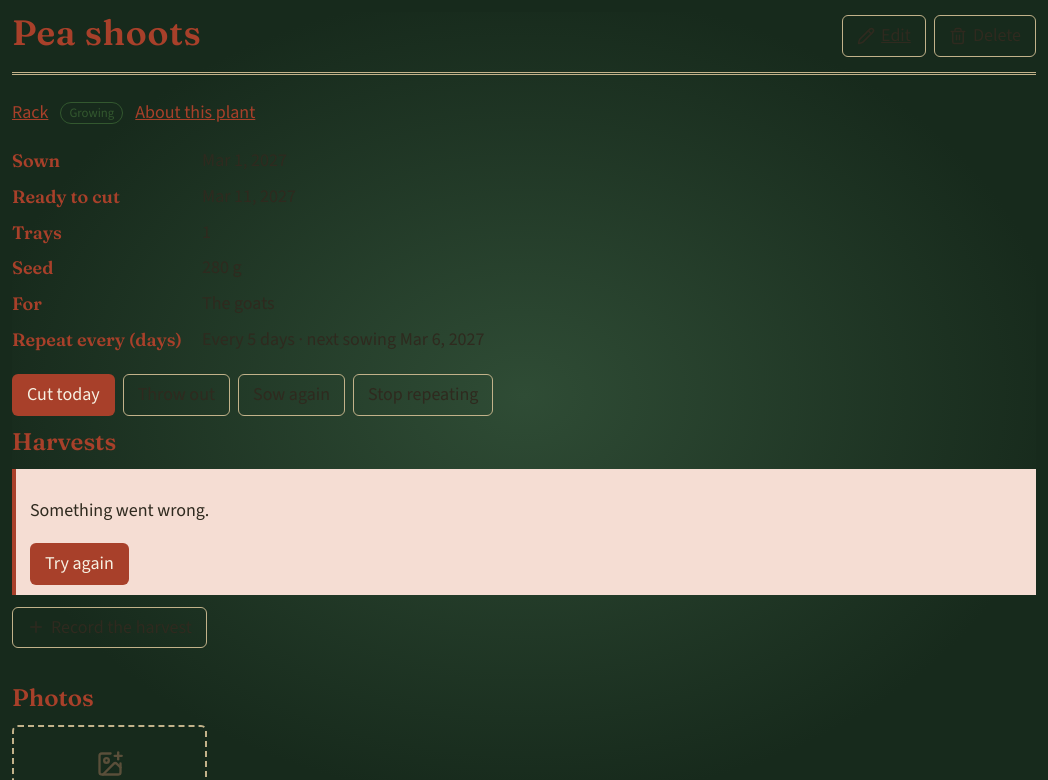
Test: tray page and list › the tray page says so when its harvests will not load, and Try again loads them
The width and height of the screenshot is (1048, 780).
Expected: the message "Something went wrong. Try again" is shown, [12,469,1036,595]
Click the button "Try again" at (79, 564), box [30,543,129,584]
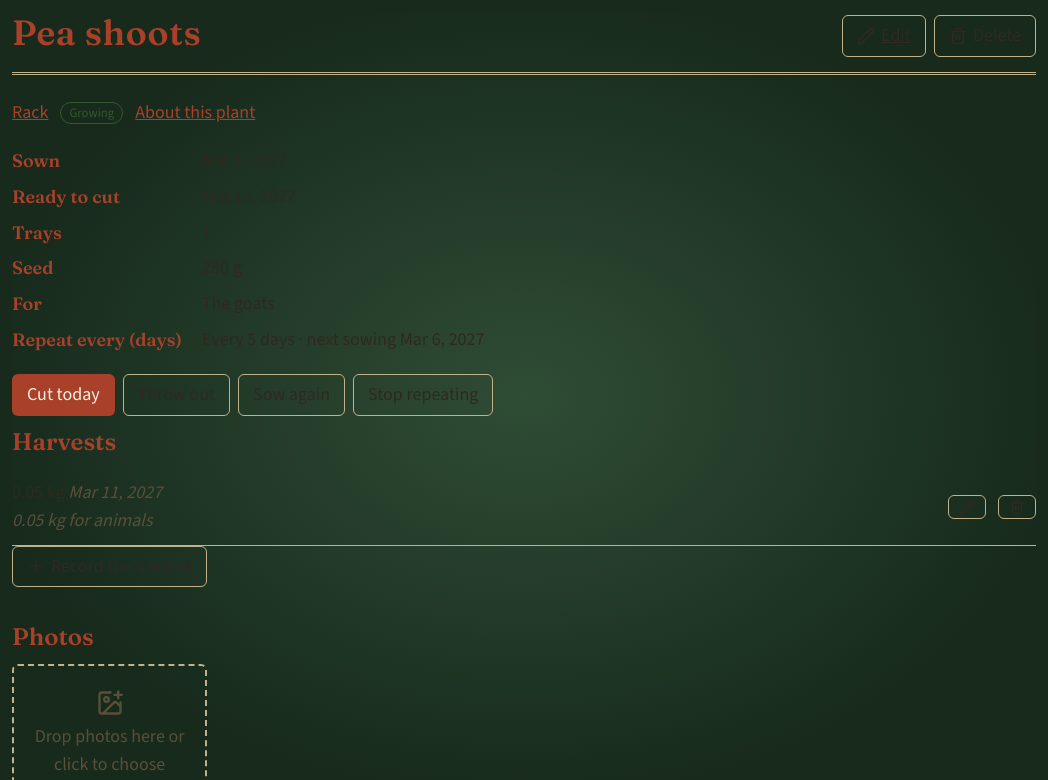
Result: the text "0.05 kg" is shown at [12,480,65,504]
